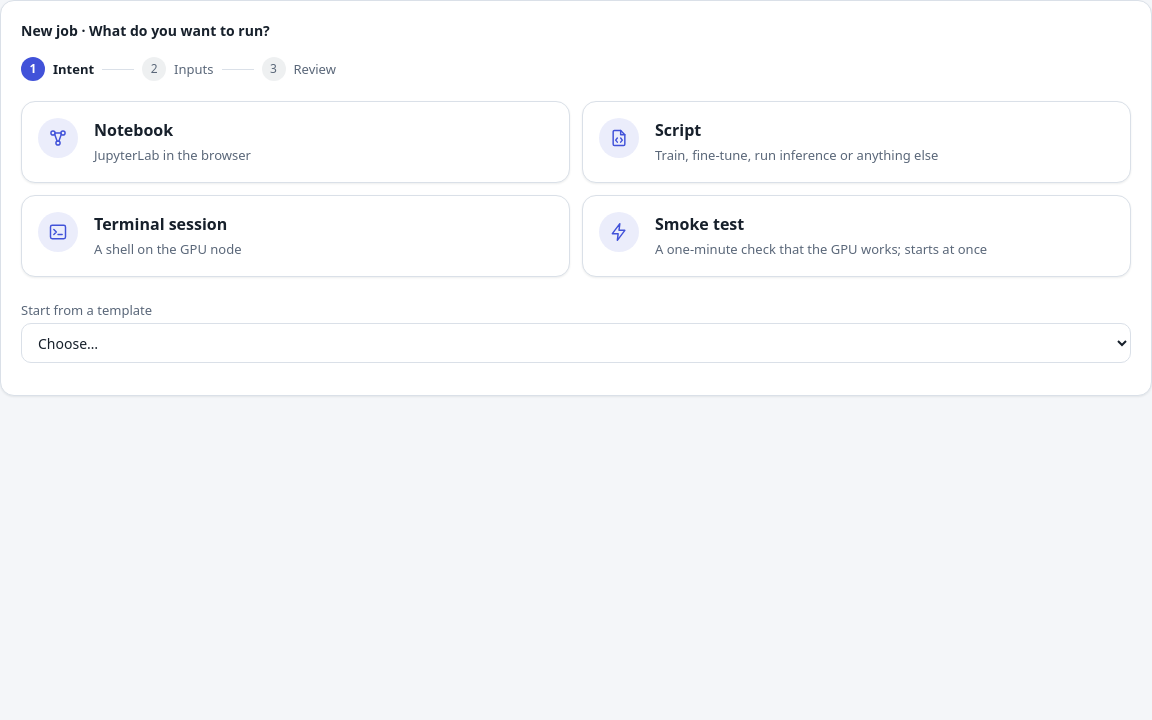
Test: NewJob › fills args and pods from a template
This screenshot has width=1152, height=720.
Step 1. Select "llama" in the dropdown labelled "Start from a template" → (576,343), box left=21, top=323, right=1131, bottom=363
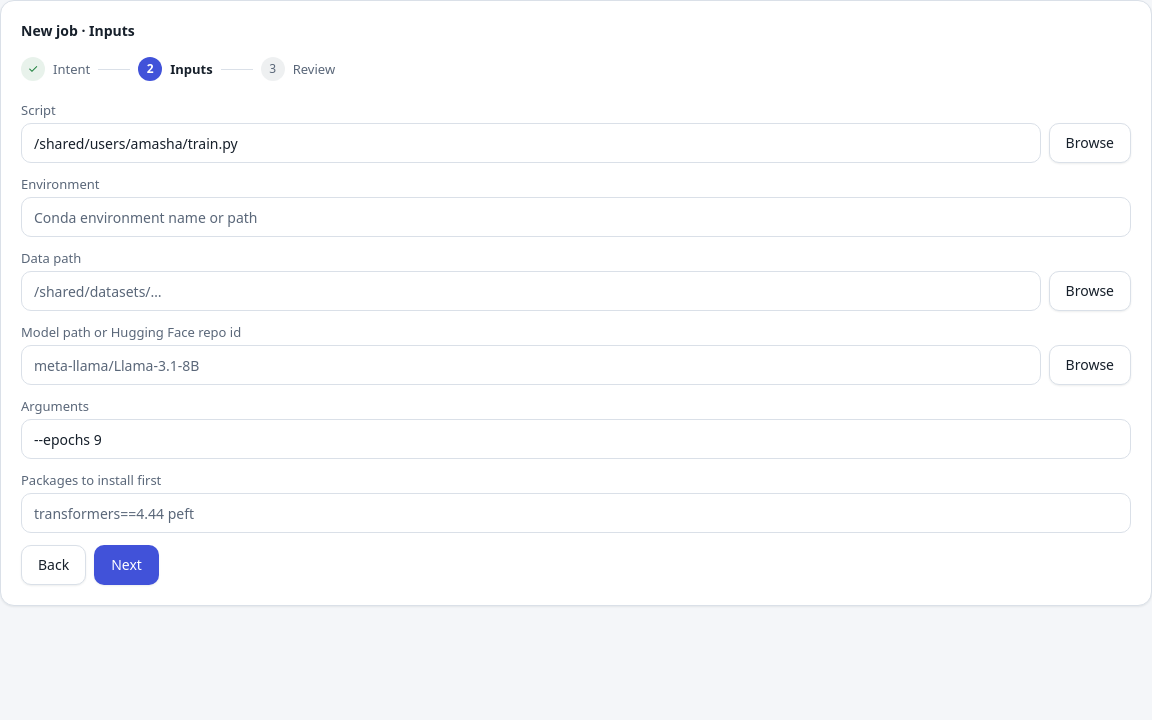
Now the field labelled "Arguments" holds "--epochs 9", box left=21, top=419, right=1131, bottom=459
Step 2. Click the button "Next" → (127,565), box left=94, top=545, right=159, bottom=585
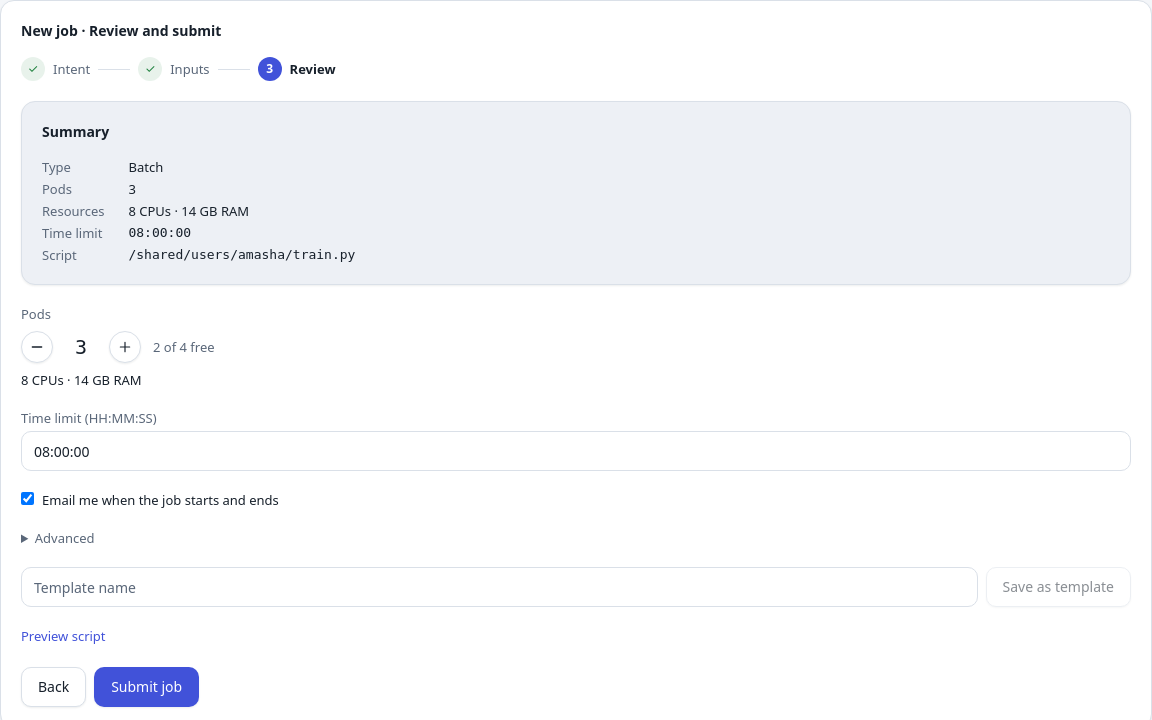
Now the text named "Pods" reads "3", box left=75, top=335, right=87, bottom=359
